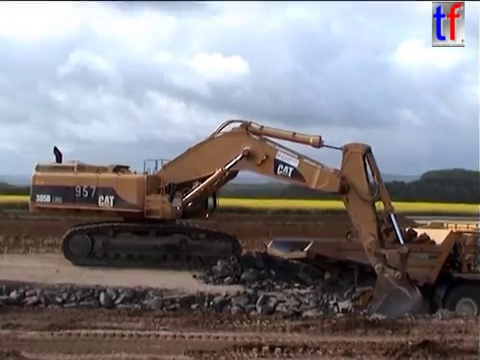excavator: (26, 117, 426, 330)
truck: (263, 217, 480, 335)
